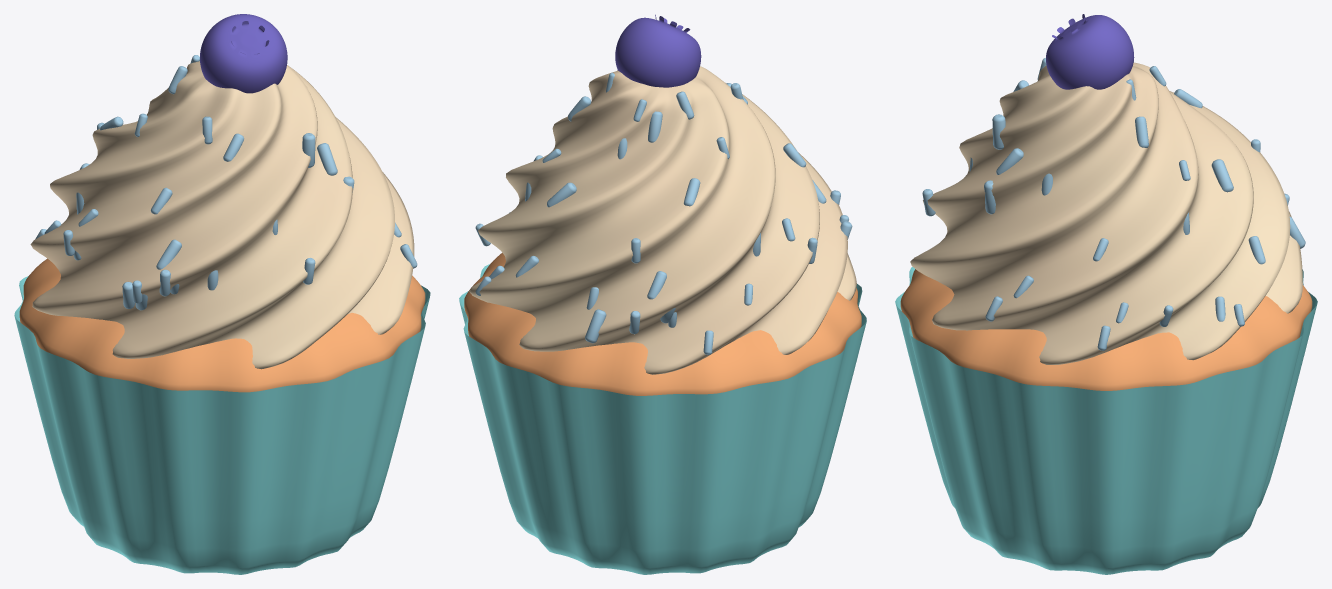
Rendered from blueberry-cupcake.fbx.
The picture shows the model from 3 angles, left to right: view 1: azimuth 30°, elevation 25°; view 2: azimuth 150°, elevation 25°; view 3: azimuth 270°, elevation 25°; orthographic projection. The views are drawn at different scales.
Parts seen in each view (by area): view 1: Blueberry-cupcake, Paper.001, Bread.001, blueberry19.002, Sprinkles.001; view 2: Blueberry-cupcake, Paper.001, Bread.001, Sprinkles.001, blueberry19.002; view 3: Blueberry-cupcake, Paper.001, Bread.001, Sprinkles.001, blueberry19.002.
Part boxes in pixels (x1,y1,x2,y2): Blueberry-cupcake: (30, 61, 414, 369); Paper.001: (14, 276, 430, 574); Bread.001: (19, 258, 425, 392); blueberry19.002: (200, 14, 287, 93); Sprinkles.001: (35, 55, 417, 310); Blueberry-cupcake: (469, 66, 856, 374); Paper.001: (459, 264, 866, 574); Bread.001: (464, 253, 861, 395); Sprinkles.001: (475, 72, 852, 354); blueberry19.002: (615, 14, 701, 87); Blueberry-cupcake: (910, 62, 1302, 364); Paper.001: (895, 267, 1317, 574); Bread.001: (900, 269, 1312, 390); Sprinkles.001: (922, 58, 1305, 350); blueberry19.002: (1046, 14, 1134, 89).
Size of the model in its own units: 241 by 319 by 241.
